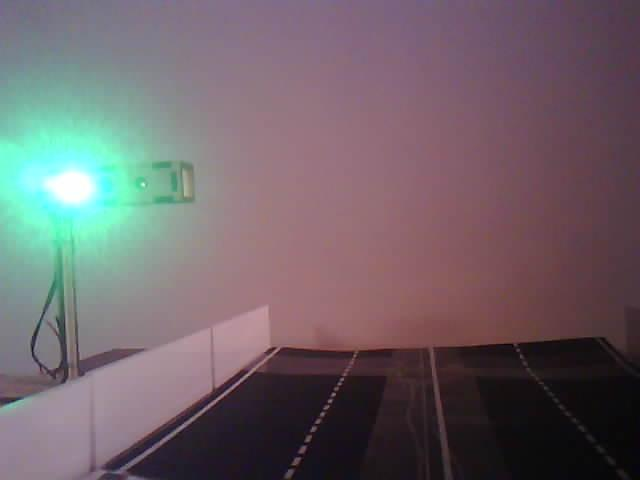green: (5, 155, 203, 214)
